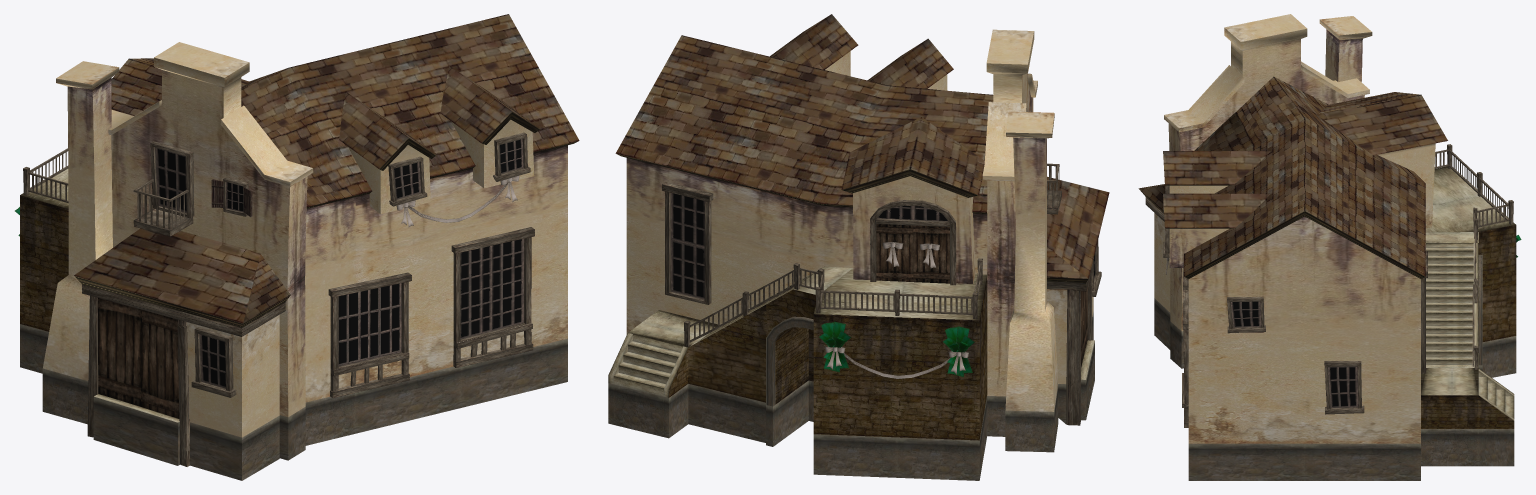
Rendered from english_corner_a.fbx.
The picture shows the model from 3 angles, left to right: view 1: azimuth 30°, elevation 25°; view 2: azimuth 150°, elevation 25°; view 3: azimuth 270°, elevation 25°; orthographic projection. The views are drawn at different scales.
Parts seen in each view (by area): view 1: building_shell, facade.001, facade_attachment, chimney, window_a_02.001, window_a_01.001, dormer1, dormer, door_left, facade_step, door_right, window_d (+9 smaller); view 2: building_shell, chimney, balcony_shell, facade.001, building_stairs, facade_attachment, doors_arched, window_b_01, dormer1, dormer, facade_step; view 3: building_shell, building_stairs, facade.001, balcony_shell, dormer1, dormer, chimney, facade_attachment, window_e_02, window_e_01, window_a_02.001, window_b_01.
Boxes of the visible parts, x1=… form: building_shell: x1=20, y1=14, x2=579, y2=445; facade.001: x1=108, y1=42, x2=313, y2=460; facade_attachment: x1=74, y1=228, x2=290, y2=480; chimney: x1=42, y1=61, x2=119, y2=424; window_a_02.001: x1=451, y1=227, x2=534, y2=367; window_a_01.001: x1=328, y1=272, x2=411, y2=391; dormer1: x1=440, y1=65, x2=540, y2=188; dormer: x1=339, y1=92, x2=435, y2=214; door_left: x1=98, y1=298, x2=141, y2=406; facade_step: x1=93, y1=394, x2=179, y2=465; door_right: x1=141, y1=310, x2=179, y2=418; window_d: x1=150, y1=141, x2=194, y2=218; building_shell: x1=608, y1=35, x2=993, y2=480; chimney: x1=1005, y1=111, x2=1058, y2=452; balcony_shell: x1=841, y1=117, x2=984, y2=283; facade.001: x1=982, y1=29, x2=1037, y2=436; building_stairs: x1=608, y1=266, x2=986, y2=397; facade_attachment: x1=1047, y1=176, x2=1109, y2=425; doors_arched: x1=870, y1=200, x2=956, y2=285; window_b_01: x1=662, y1=182, x2=713, y2=304; dormer1: x1=770, y1=14, x2=858, y2=76; dormer: x1=867, y1=38, x2=953, y2=90; facade_step: x1=1081, y1=340, x2=1094, y2=419; building_shell: x1=1184, y1=76, x2=1516, y2=480; building_stairs: x1=1421, y1=166, x2=1515, y2=420; facade.001: x1=1164, y1=14, x2=1369, y2=368; balcony_shell: x1=1317, y1=92, x2=1447, y2=228; dormer1: x1=1163, y1=193, x2=1270, y2=267; dormer: x1=1163, y1=151, x2=1270, y2=193; chimney: x1=1319, y1=16, x2=1372, y2=81; facade_attachment: x1=1138, y1=184, x2=1170, y2=349; window_e_02: x1=1324, y1=361, x2=1364, y2=414; window_e_01: x1=1227, y1=296, x2=1265, y2=333; window_a_02.001: x1=1182, y1=290, x2=1188, y2=422; window_b_01: x1=1421, y1=250, x2=1427, y2=373.
Bounding box in the file's own units: 5287 × 4252 × 4649.
2 materials, 2 textured.
